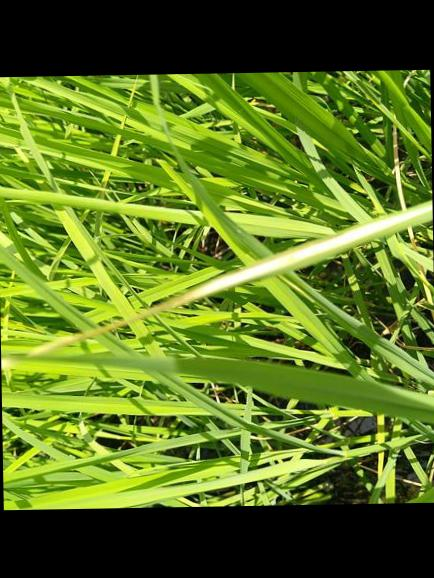Leaf Blight: (38, 198, 433, 354)
